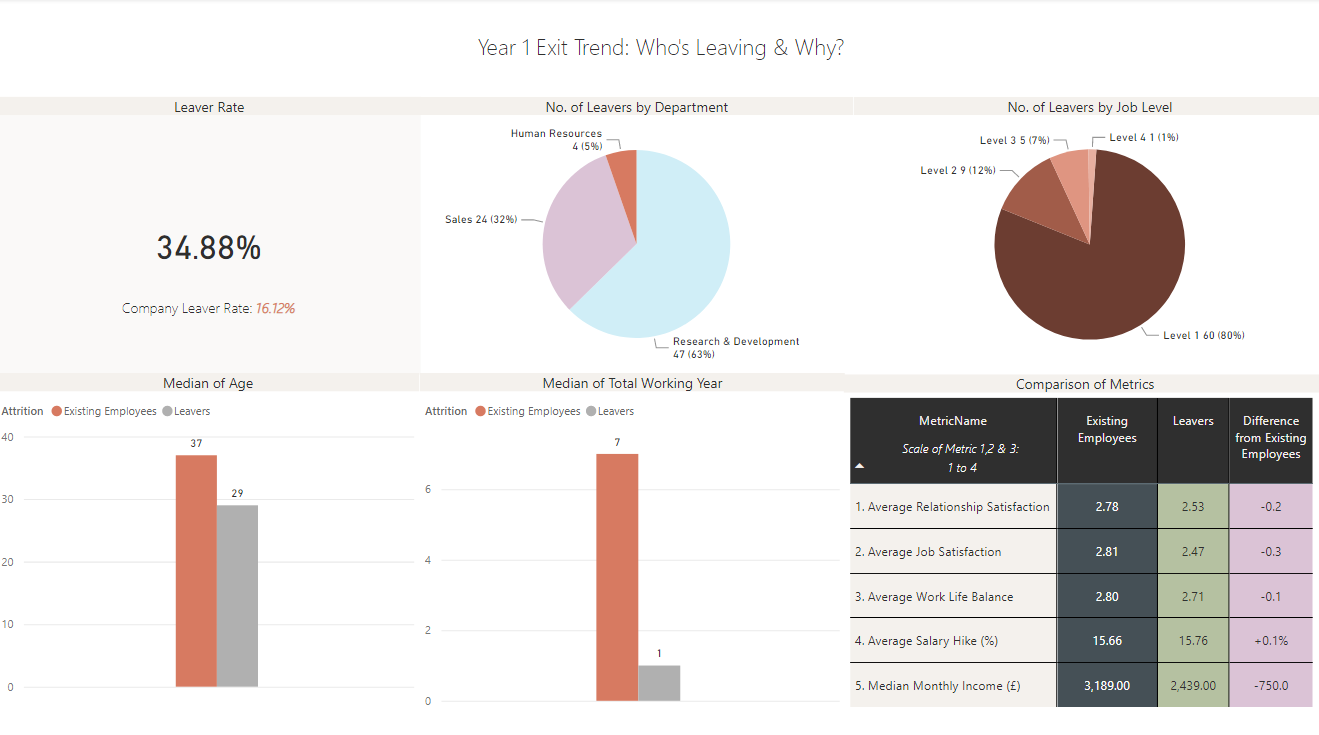

Layout of this report page (visuals, bound fields, positions):
{"tool":"powerbi","page":{"name":"Year 1 Exit Trend","canvas":[1280,720],"ordinal":2},"visuals":[{"type":"card","title":"Leaver Rate","fields":{"Values":["HR Data_20250501.Attrition Rate (%)"]},"box":[1.2,95,407.5,266.8],"z":0},{"type":"pieChart","title":"No. of Leavers by Department","fields":{"Category":["HR Data_20250501.Department"],"Y":["Sum(HR Data_20250501.EmployeeCount)"]},"box":[407.5,95,417.1,265.6],"z":1000},{"type":"clusteredColumnChart","title":"Median of Age","fields":{"Series":["HR Data_20250501.Attrition"],"Y":["Median(HR Data_20250501.Age)"]},"box":[0,360.6,407.5,314.9],"z":2000},{"type":"tableEx","title":"Comparison of Metrics","fields":{"Values":["MetricLabelTable.MetricName","HR Data_20250501.Selected_NonLeaver_Value","HR Data_20250501.Selected_Leaver_Value","HR Data_20250501.Selected_Diff_Value"]},"box":[815.4,361.4,464.6,357.8],"z":3000},{"type":"textbox","box":[0,26.4,1278.9,39.7],"z":4000},{"type":"pieChart","title":"No. of Leavers by Job Level","fields":{"Category":["HR Data_20250501.JobLevel"],"Y":["Sum(HR Data_20250501.EmployeeCount)"]},"box":[824.6,95,454.4,266.8],"z":5000},{"type":"clusteredColumnChart","title":"Median of Total Working Year","fields":{"Series":["HR Data_20250501.Attrition"],"Y":["Median(HR Data_20250501.TotalWorkingYears)"]},"box":[407.5,360.6,408.7,328.1],"z":6000},{"type":"textbox","box":[848.6,417.1,161.1,46.9],"z":7000},{"type":"textbox","box":[107,282.5,194.7,34.9],"z":7001}]}

Visuals, with their boxes in screenshot pixels (x1, y1, x2, y2), scaled from the page's 1280x720 canvas onto the 1319x735 screenshot:
"Leaver Rate" card: locate(1, 97, 421, 369)
"No. of Leavers by Department" pieChart: locate(420, 97, 850, 368)
"Median of Age" clusteredColumnChart: locate(0, 368, 420, 690)
"Comparison of Metrics" tableEx: locate(840, 369, 1318, 734)
textbox: locate(0, 27, 1318, 67)
"No. of Leavers by Job Level" pieChart: locate(850, 97, 1318, 369)
"Median of Total Working Year" clusteredColumnChart: locate(420, 368, 841, 703)
textbox: locate(874, 426, 1040, 474)
textbox: locate(110, 288, 311, 324)
